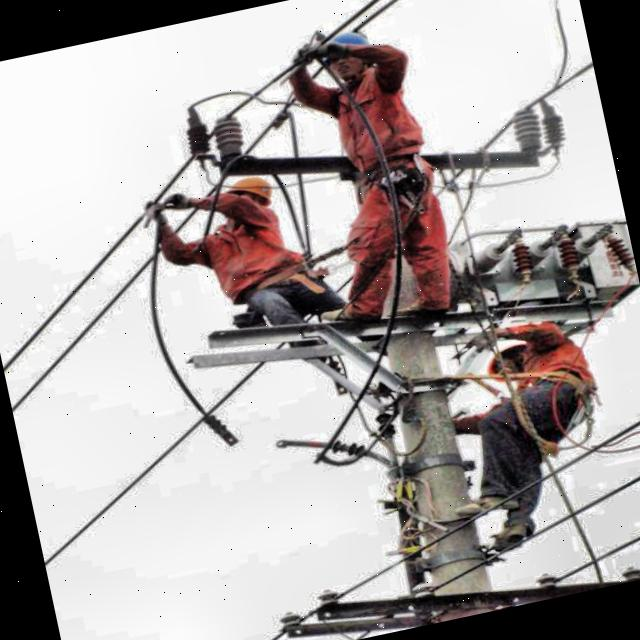helmet: (476, 332, 554, 387), (212, 170, 280, 228), (318, 24, 381, 82)
